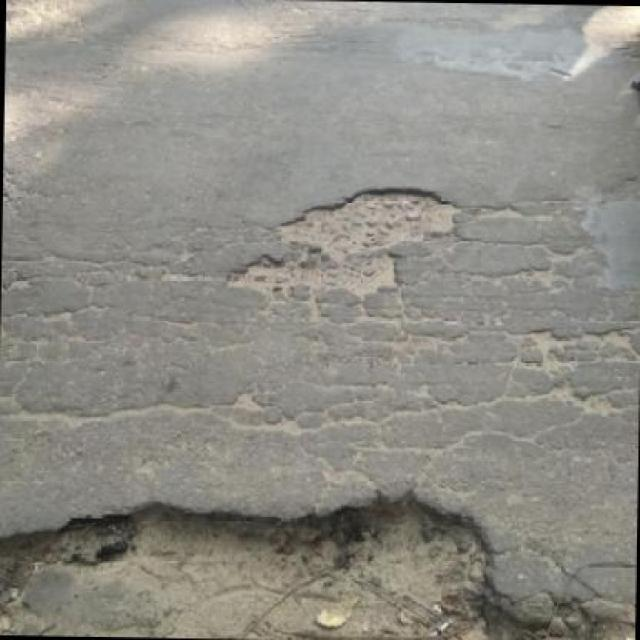pothole1: (0, 472, 615, 638), (222, 178, 462, 297)
